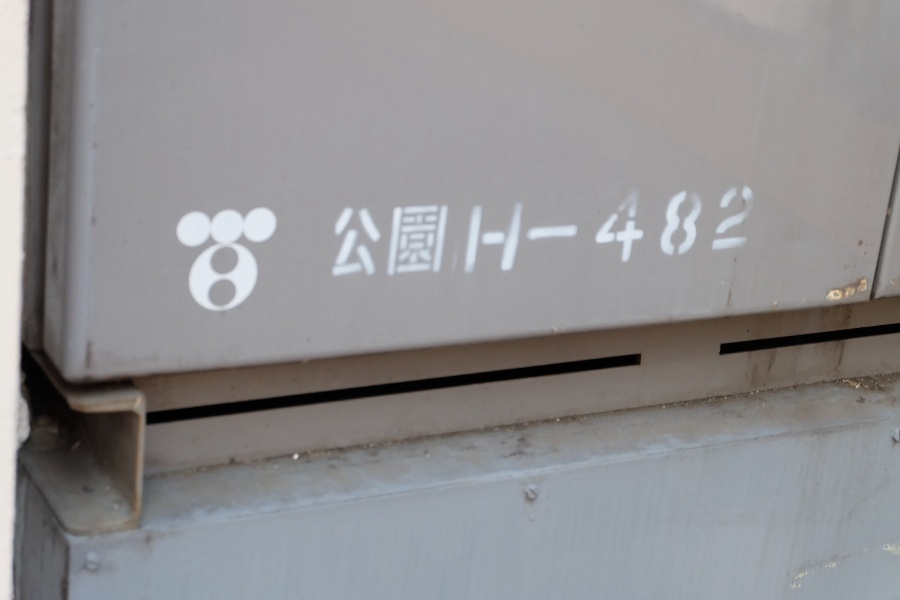text: (337, 186, 352, 280), (353, 186, 368, 280), (369, 186, 384, 280), (385, 186, 400, 280), (401, 186, 416, 280), (417, 186, 432, 280), (433, 186, 448, 280), (449, 186, 464, 280), (465, 186, 480, 280), (481, 186, 496, 280), (497, 186, 512, 280), (513, 186, 528, 280), (529, 186, 544, 280), (545, 186, 560, 280), (561, 186, 576, 280), (577, 186, 592, 280), (593, 186, 608, 280), (609, 186, 624, 280), (625, 186, 640, 280), (641, 186, 656, 280), (657, 186, 672, 280), (673, 186, 688, 280), (689, 186, 704, 280), (705, 186, 720, 280), (721, 186, 736, 280), (737, 186, 752, 280), (753, 186, 755, 280), (335, 186, 336, 280)
